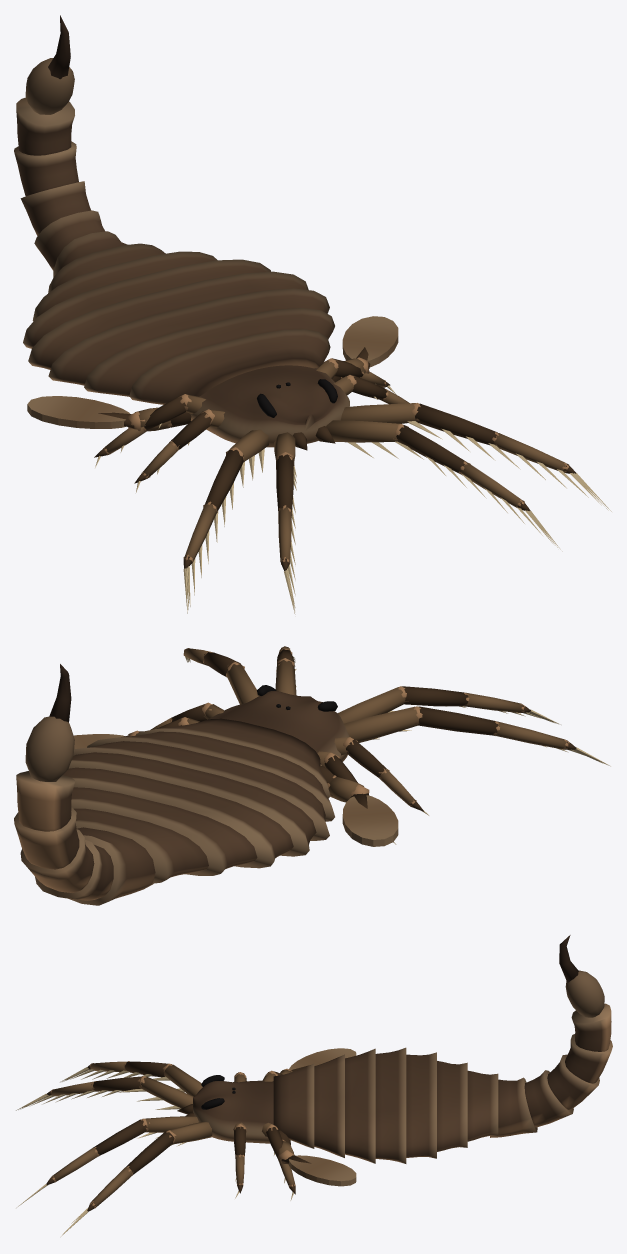
The model's file is EusarcanaObesa.fbx.
The picture shows the model from 3 angles, top to bottom: view 1: azimuth 30°, elevation 25°; view 2: azimuth 150°, elevation 25°; view 3: azimuth 270°, elevation 25°; orthographic projection. The views are drawn at different scales.
Parts seen in each view (by area): view 1: EusarcanaObesa; view 2: EusarcanaObesa; view 3: EusarcanaObesa.
Part boxes in pixels (x1=…): EusarcanaObesa: x1=14, y1=15, x2=611, y2=614; EusarcanaObesa: x1=14, y1=646, x2=610, y2=905; EusarcanaObesa: x1=16, y1=935, x2=612, y2=1236.
Bounding box in the file's own units: 0.8964 × 0.6073 × 1.45.
